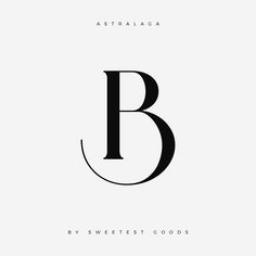r: (98, 56, 182, 164)
